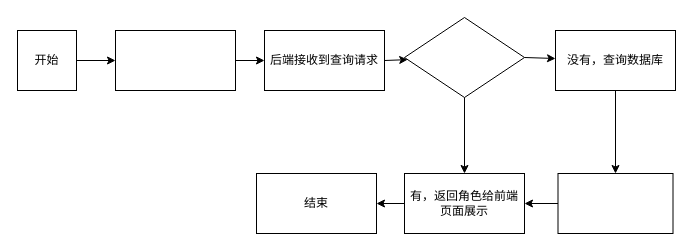
This 693x251 diagram has some shape labels left out. The centre of each missing label's shape, as x and y in pixels:
"填充缓存中的角色集合" belongs at pixel 615 203.
"查看缓存中是否又角色集合" belongs at pixel 464 57.
"点击角色管理按钮发送查询请求" belongs at pixel 175 60.
